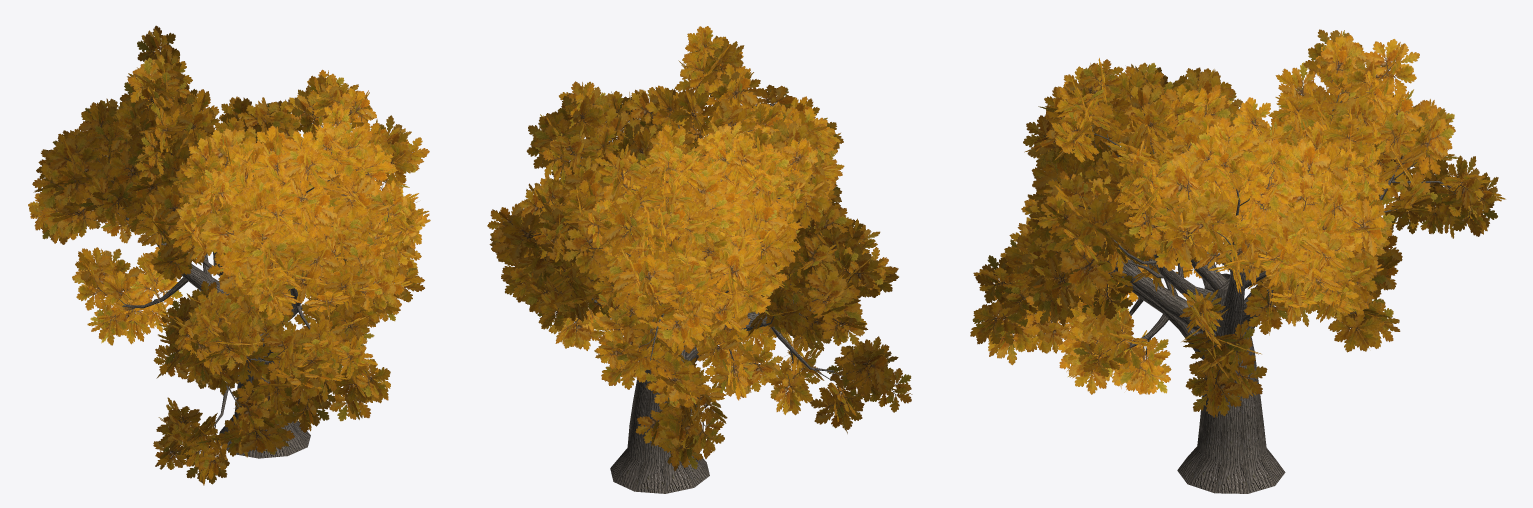
File: nature-white-great-sun-oak_v4.glb
3 views of the same model, side by side, from view 1: azimuth 30°, elevation 25°; view 2: azimuth 150°, elevation 25°; view 3: azimuth 270°, elevation 25° (orthographic). The views are drawn at different scales.
Parts seen in each view (by area): view 1: nature-white-great-sun-oak; view 2: nature-white-great-sun-oak; view 3: nature-white-great-sun-oak.
Part boxes in pixels (x1=…): nature-white-great-sun-oak: x1=28, y1=25, x2=430, y2=485; nature-white-great-sun-oak: x1=487, y1=26, x2=912, y2=493; nature-white-great-sun-oak: x1=970, y1=29, x2=1505, y2=493.
Bounding box in the file's own units: 12.82 × 13.92 × 16.69.
Materials: 2 (2 with a texture image).
